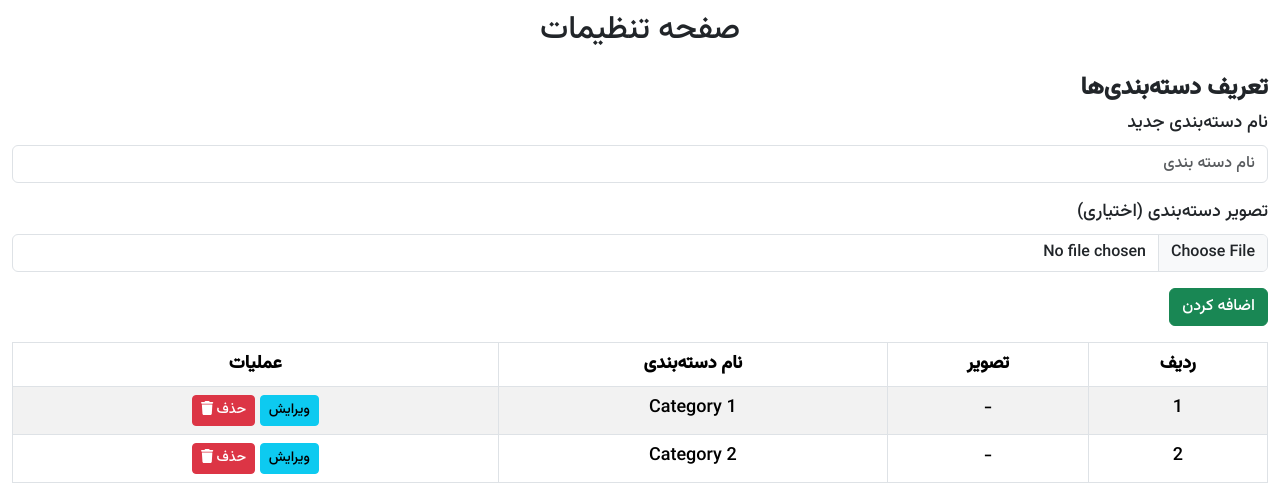
SettingsPage Component › deletes a category
Expected: the text "Category 1" is shown, [498, 387, 888, 435]
What coordinates should you click on to do the following:
click the button "حذف" in the row of "Category 1"
I would click on:
 (223, 411)
Its box is [192, 395, 255, 426].
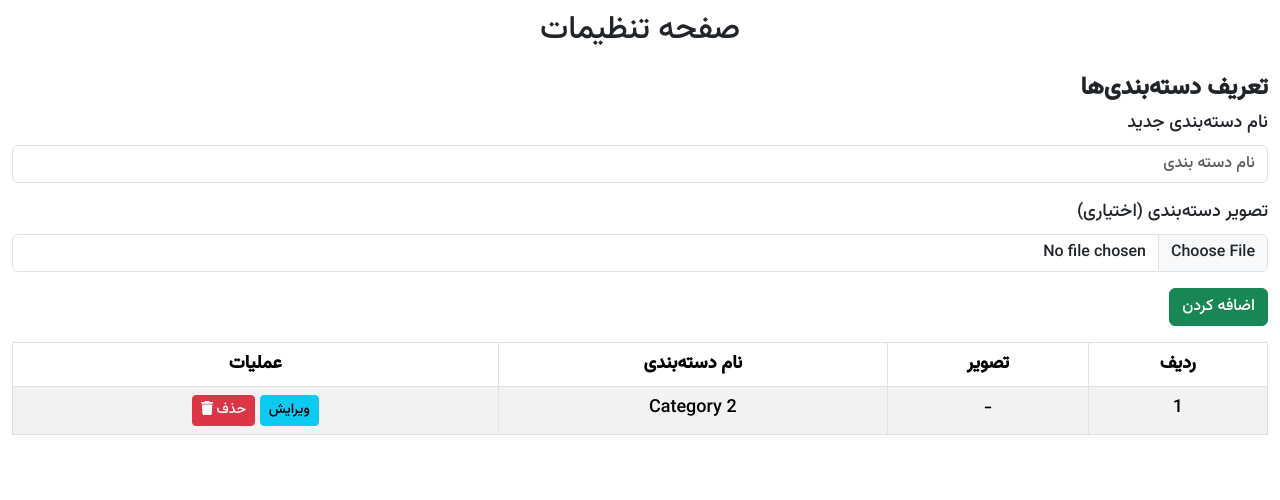
Expected: the text "Category 1" is gone
